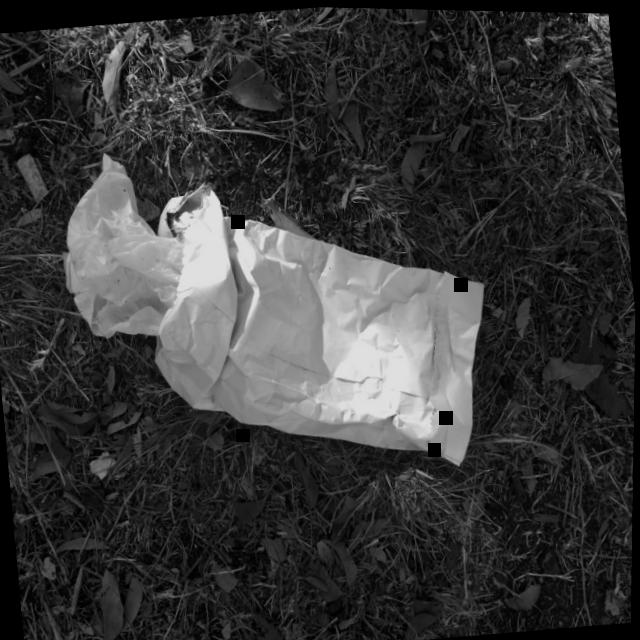Cigarette: (15, 152, 48, 200)
Other plastic: (154, 181, 484, 464)
Plastic film: (63, 151, 184, 336)
Unlabeled litter: (89, 449, 115, 478)
